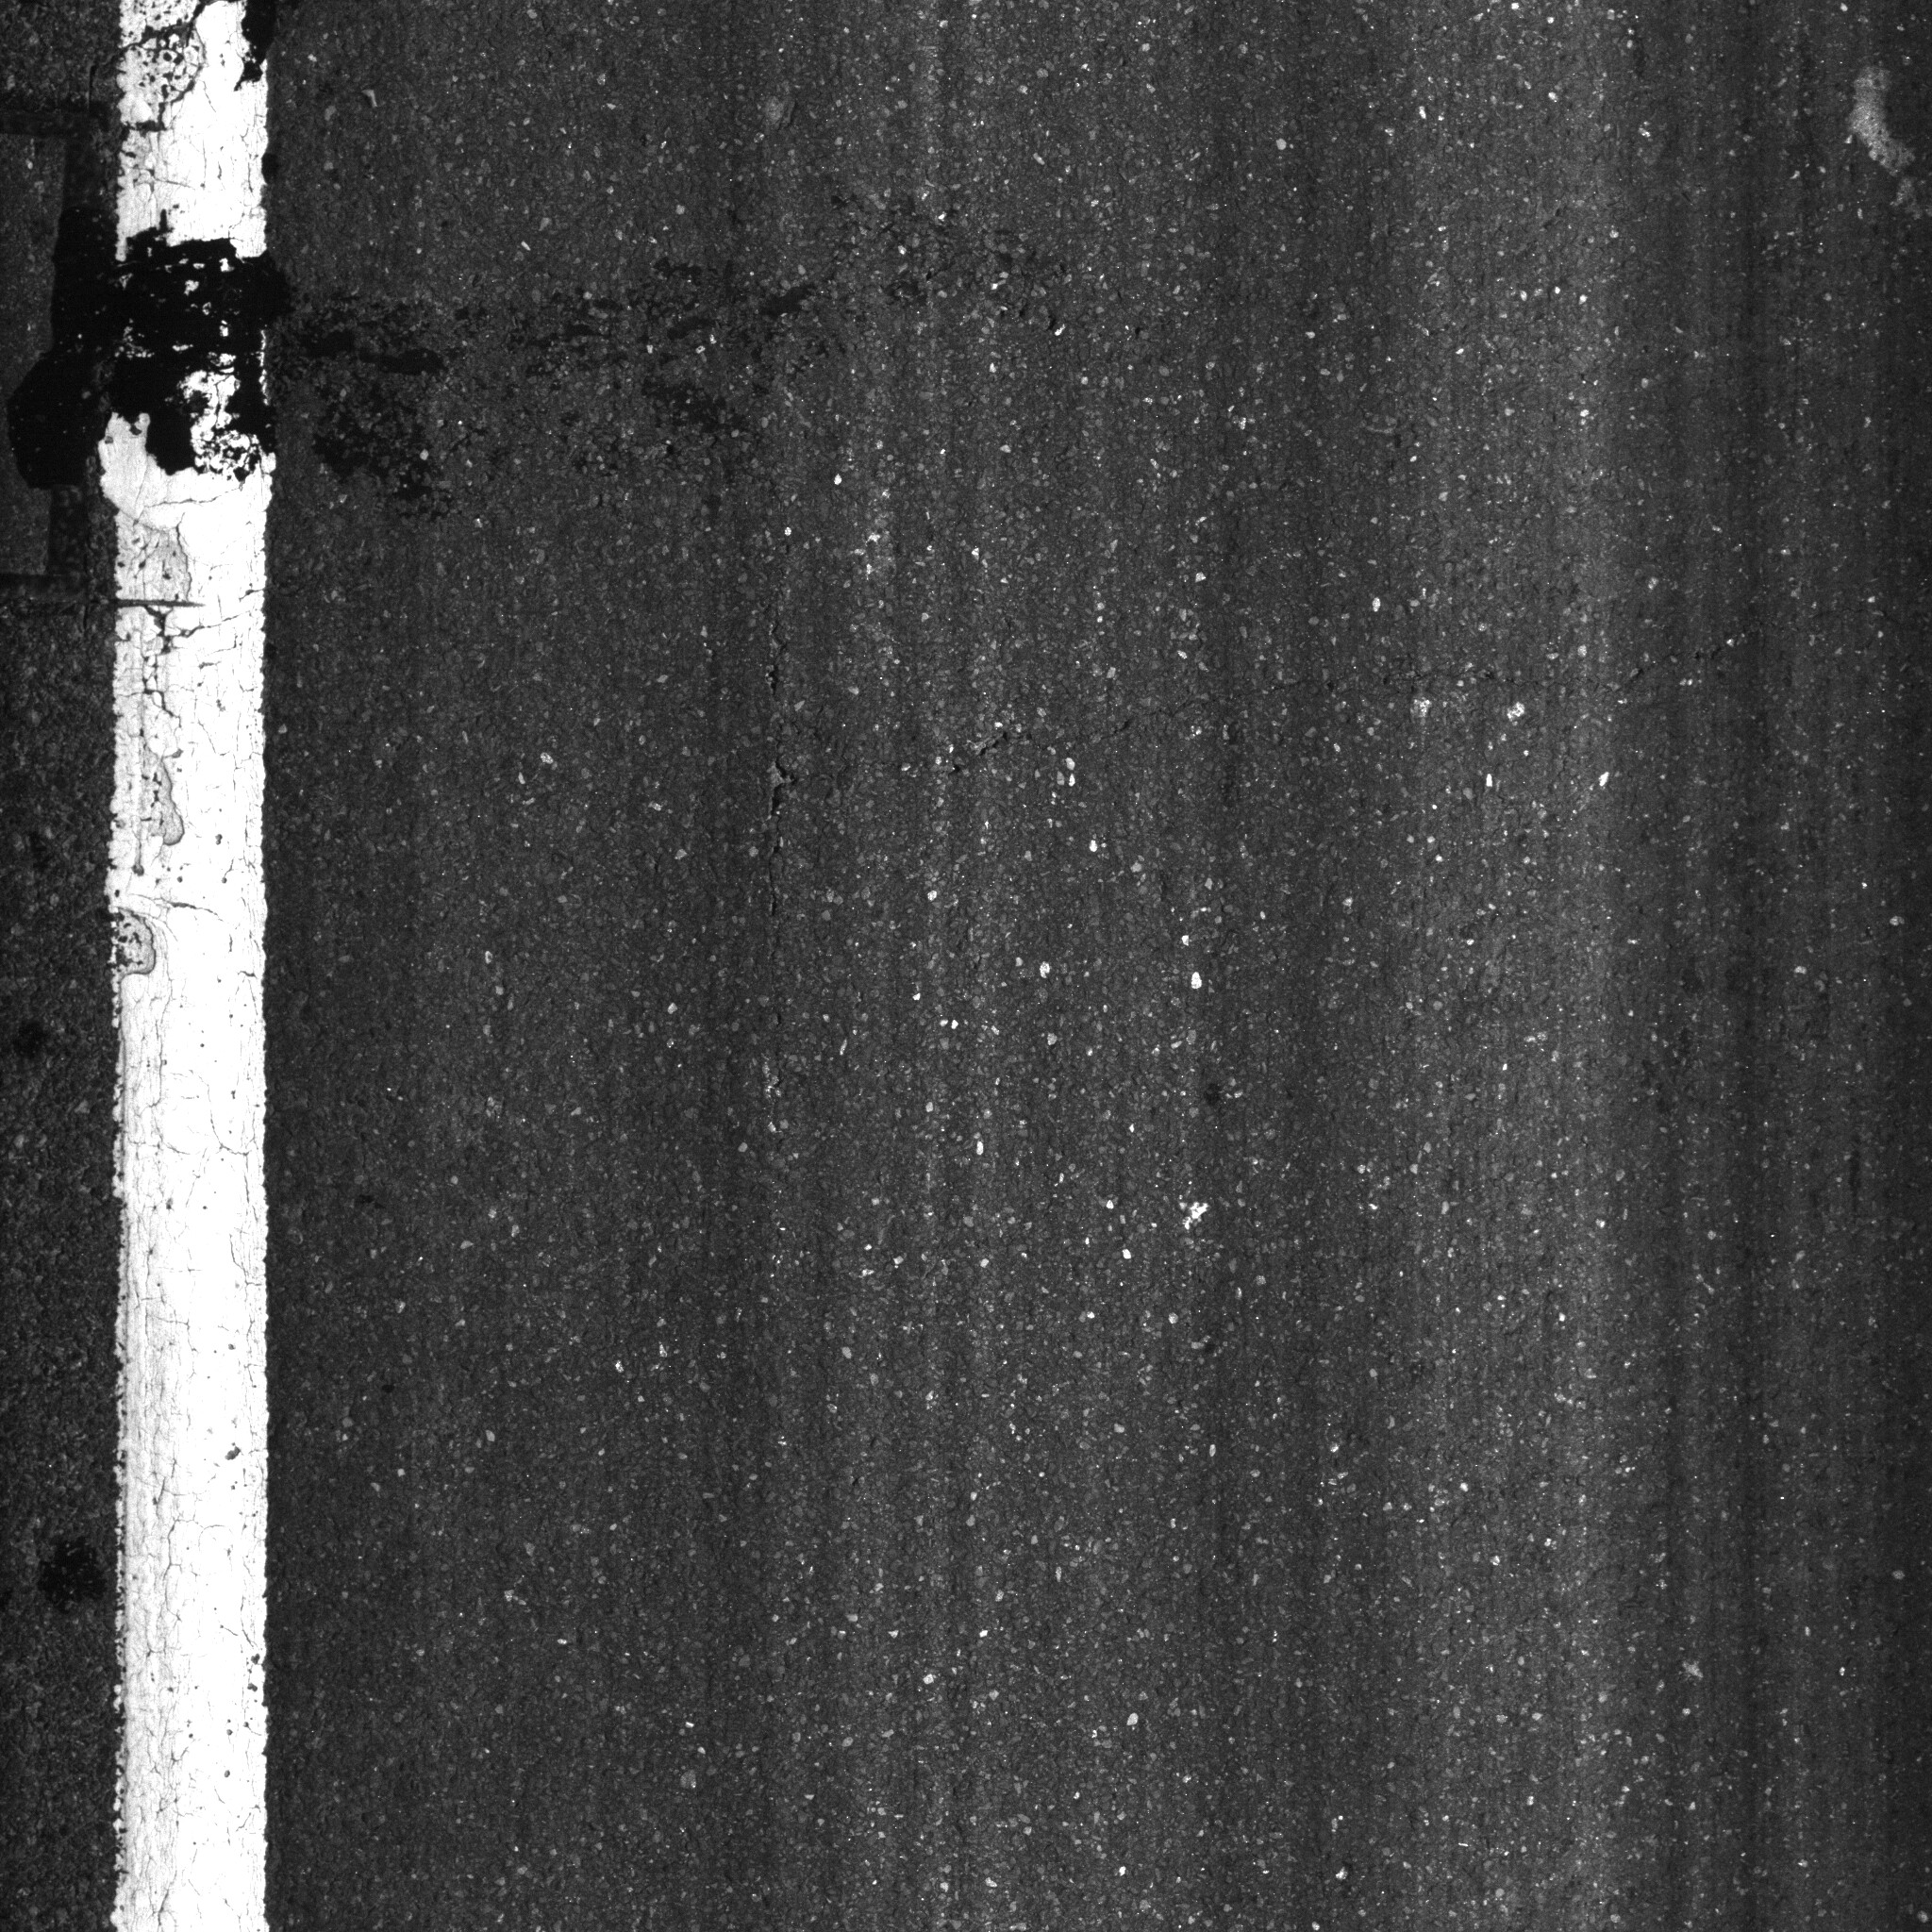transverse: (789, 649, 1683, 814)
